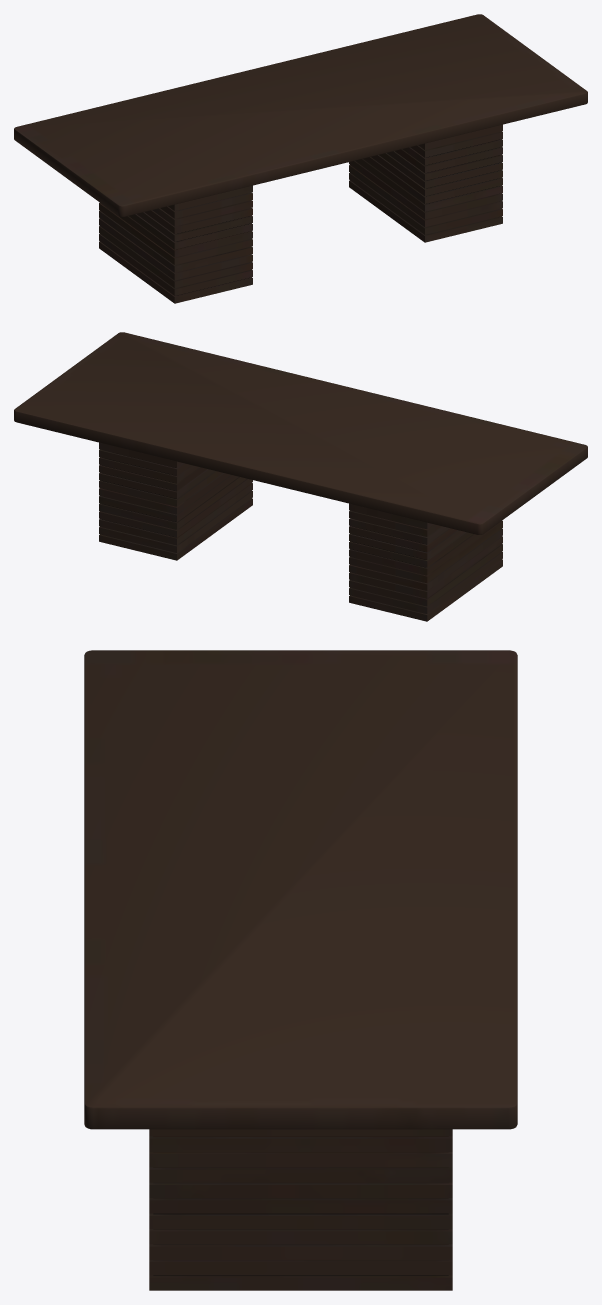
The model's file is suite_dining_table.glb.
3 renders of one model, top to bottom at view 1: azimuth 30°, elevation 25°; view 2: azimuth 150°, elevation 25°; view 3: azimuth 270°, elevation 25°, orthographic. The views are drawn at different scales.
Parts seen in each view (by area): view 1: suite_dining_table; view 2: suite_dining_table; view 3: suite_dining_table.
Boxes of the visible parts, x1,y1,x2,y2 form: suite_dining_table: [14, 14, 587, 303]; suite_dining_table: [14, 332, 587, 621]; suite_dining_table: [84, 650, 517, 1290].
Bounding box in the file's own units: 3 × 0.7699 × 1.2.
Materials: 1 (1 with a texture image).
